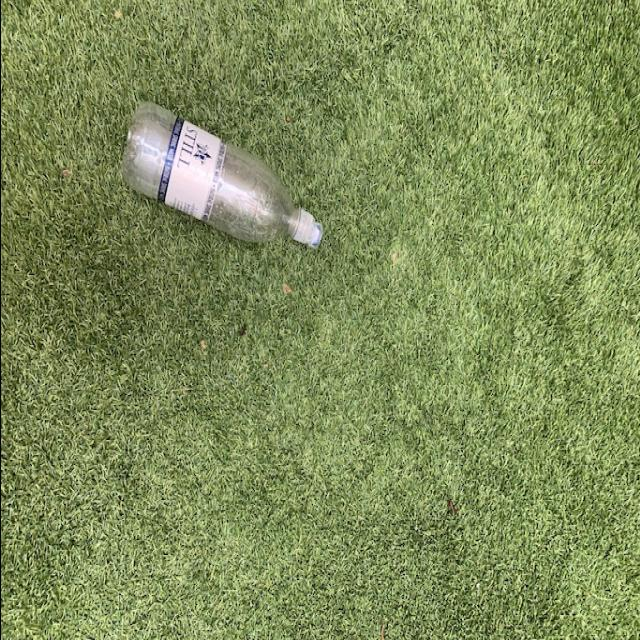litter: (116, 99, 328, 248)
